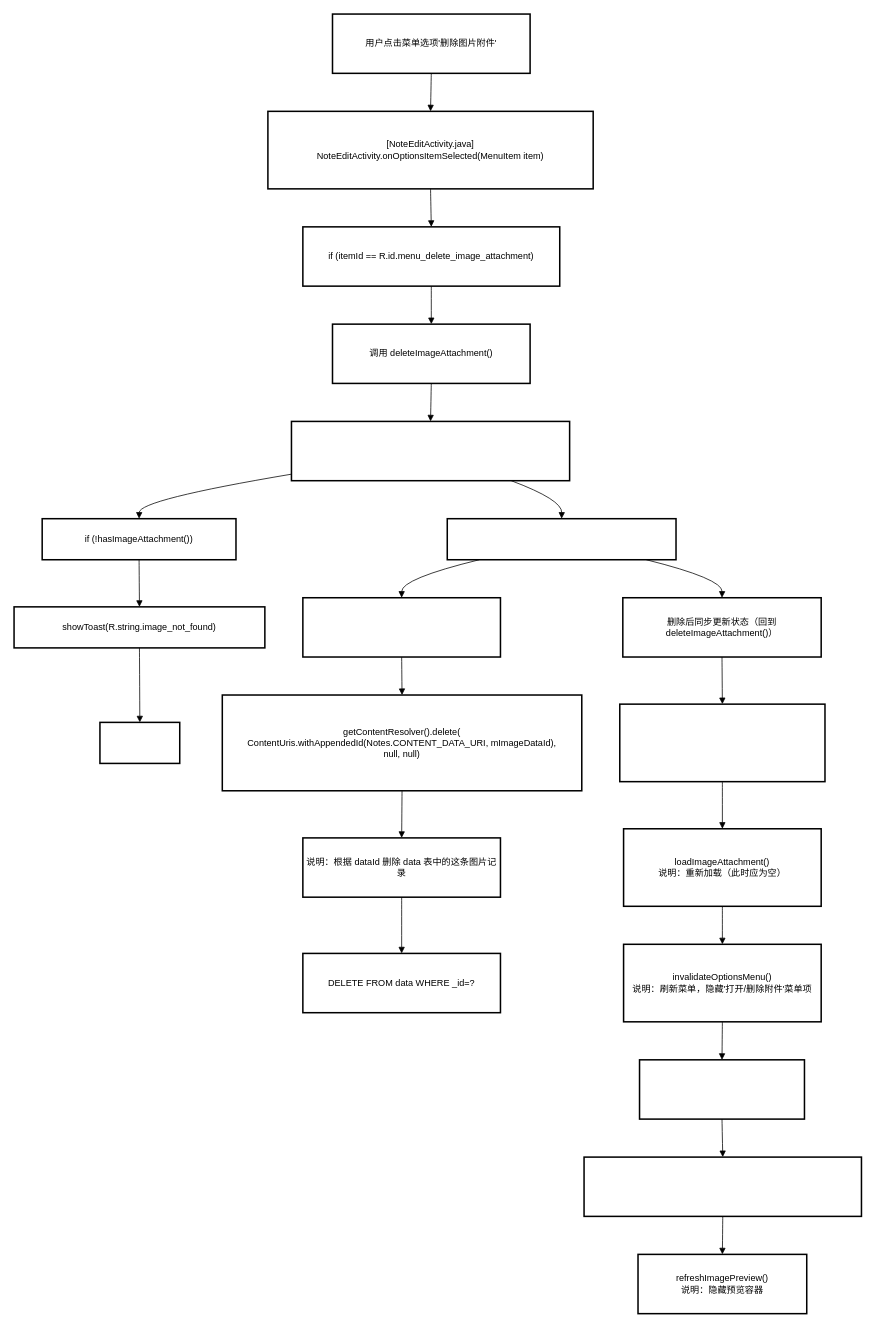
Image size: 875x1327. Some labels were removed from this diagram. Here are the shapes that lost their labels. From the top down, the centre of each, then its label:
the point at 430,450: [NoteEditActivity.java] NoteEditActivity.deleteImageAttachment()
the point at 561,539: deleteImageAttachmentInternal()
the point at 401,627: 说明：此方法仅处理数据库删除，不涉及 UI 更新
the point at 139,742: return
the point at 722,742: updateAttachmentFlag(false) 说明：重新计算图片数量，更新 has_attachment 字段
the point at 721,1089: setResult(RESULT_OK) 说明：设置返回结果
the point at 722,1186: showToast(R.string.image_delete_success) 说明：显示'图片已删除'的提示
